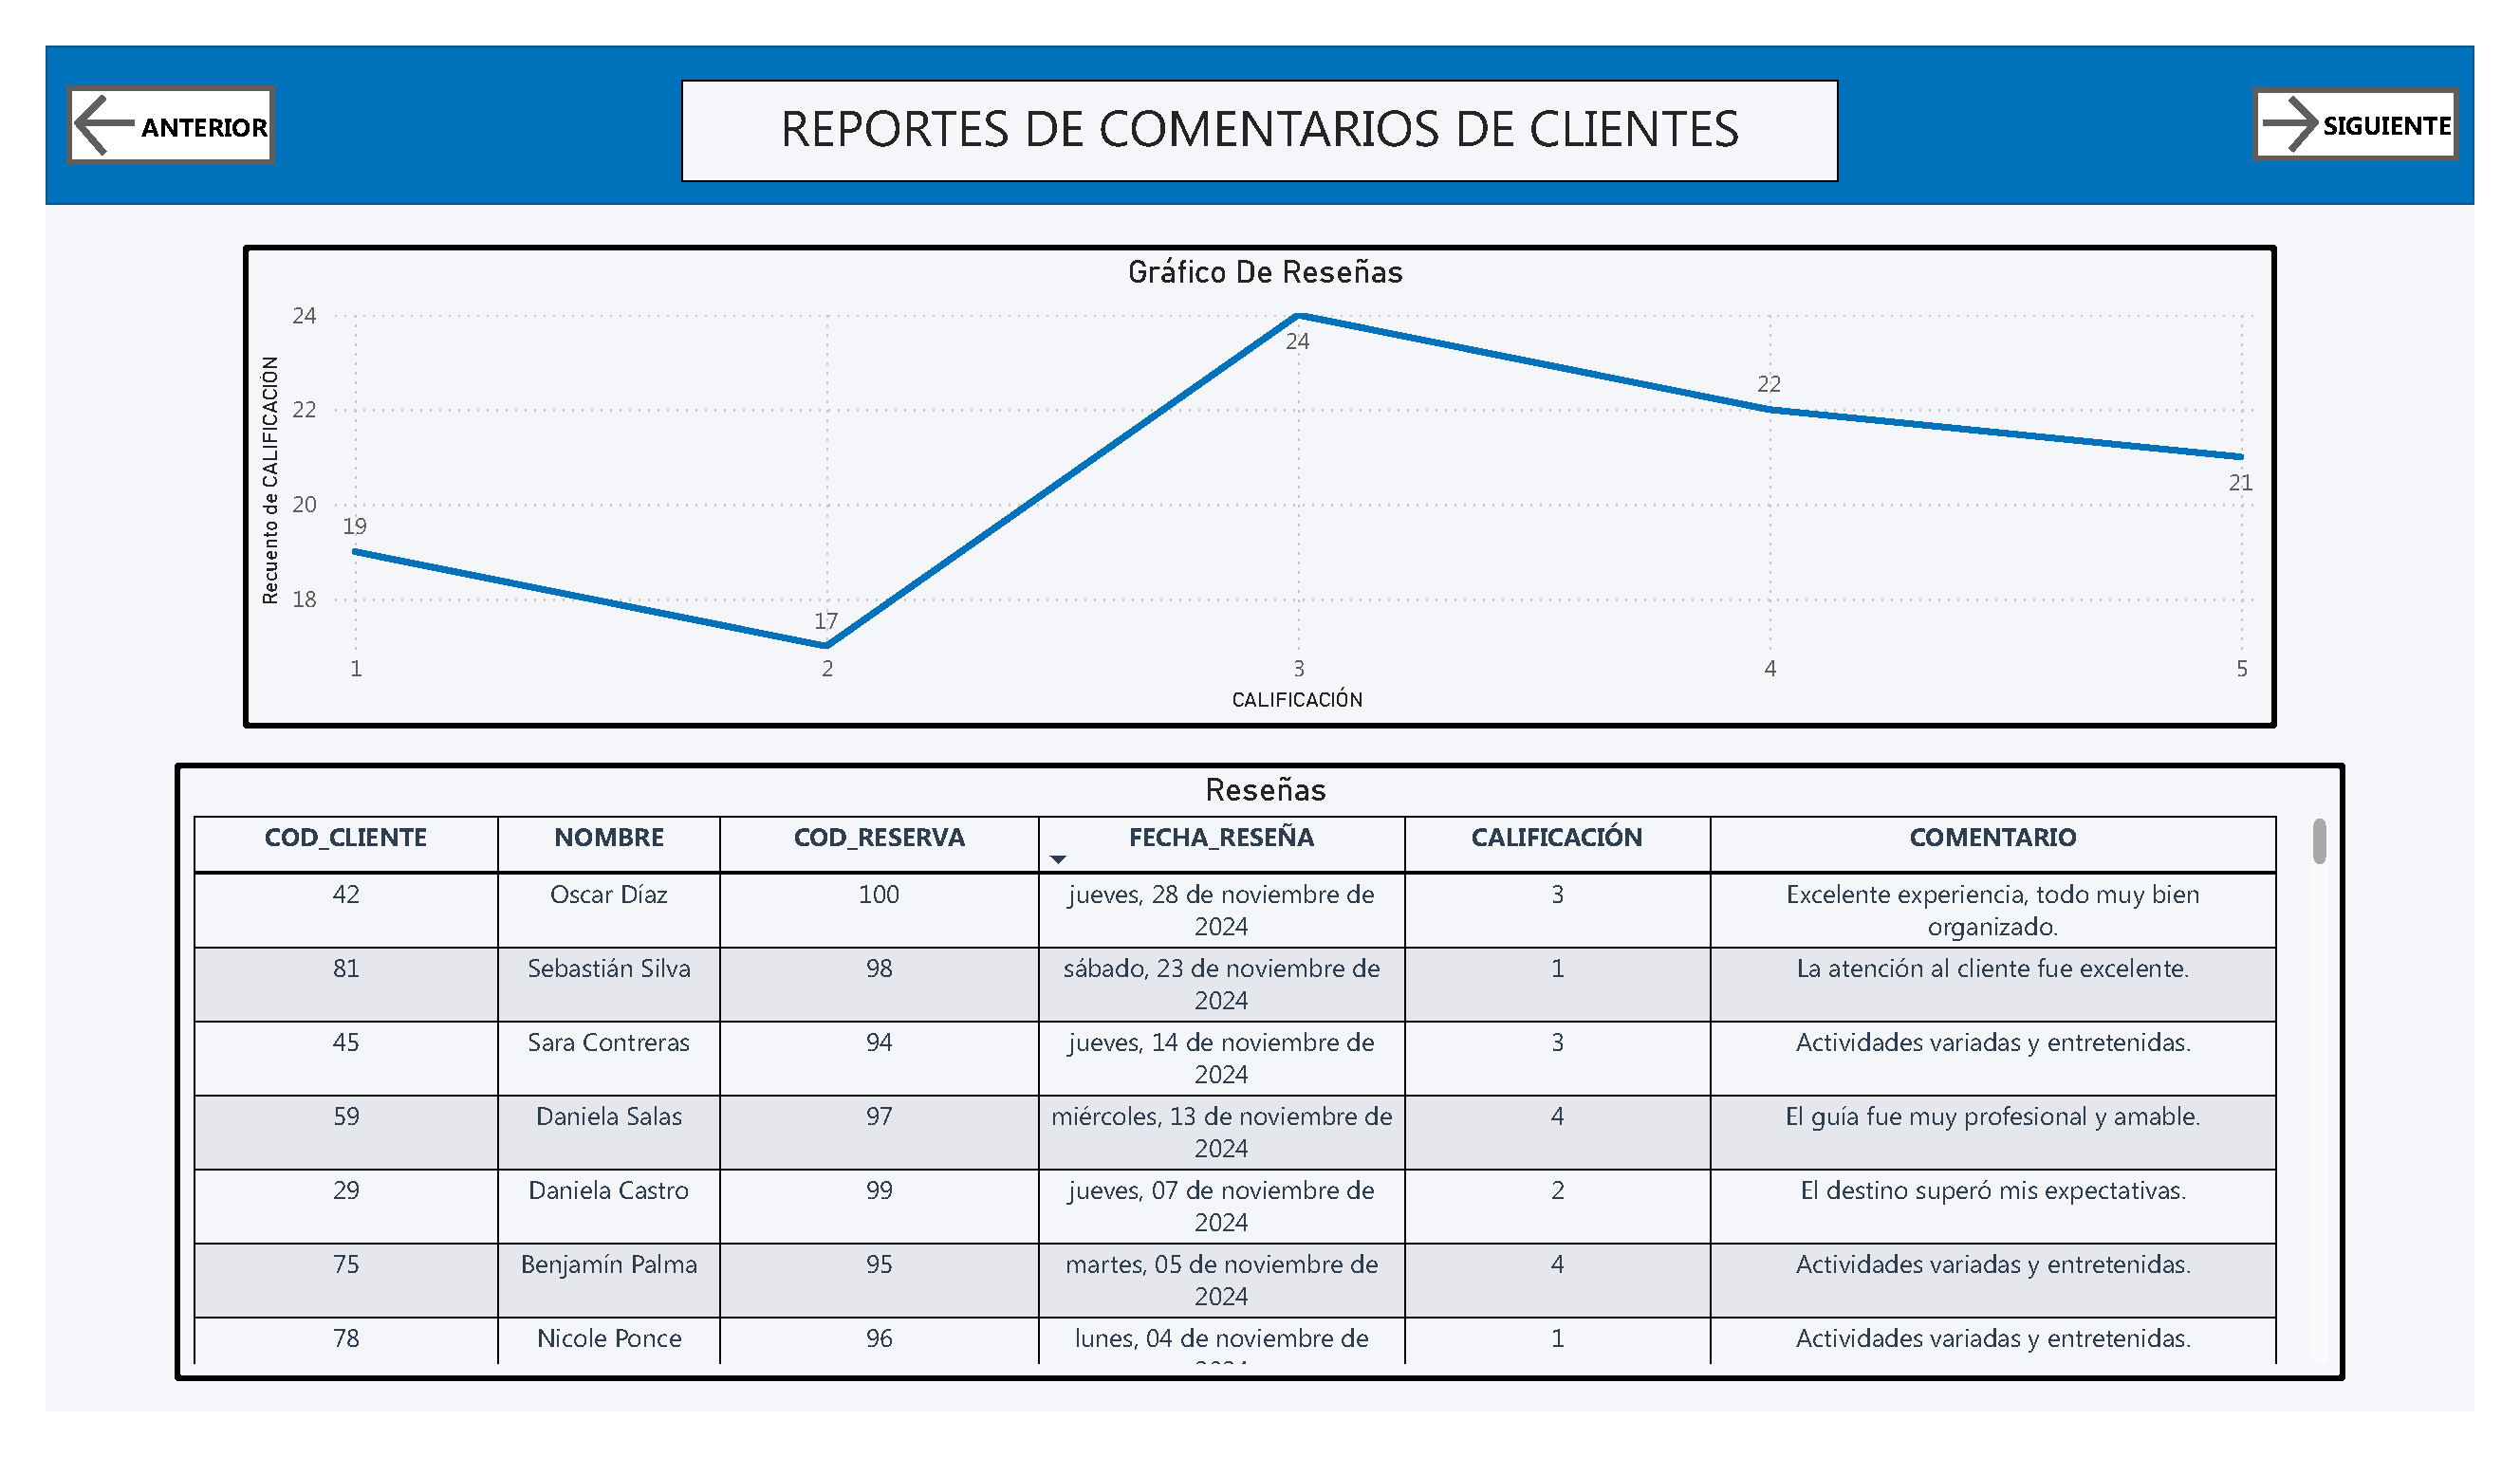

Layout of this report page (visuals, bound fields, positions):
{"tool":"powerbi","page":{"name":"RESEÑAS","canvas":[1280,720],"ordinal":9},"visuals":[{"type":"shape","box":[0,0,1280,83.8],"z":0},{"type":"textbox","box":[335,18.3,610,53.3],"z":1000},{"type":"actionButton","box":[1162.5,22,109.8,39.5],"z":3000},{"type":"actionButton","title":"Atras","box":[10.5,21.1,110.6,42.1],"z":4000},{"type":"tableEx","title":"Reseñas","fields":{"Values":["Sum(RESENA.COD_CLIENTE)","RESENA.NOMBRE","Sum(RESENA.COD_RESERVA)","RESENA.FECHA_RESEÑA","Sum(RESENA.CALIFICACIÓN)","RESENA.COMENTARIO"]},"box":[67.6,377.6,1144.1,326.6],"z":5000},{"type":"lineChart","title":"Gráfico De Reseñas","fields":{"Y":["CountNonNull(RESENA.CALIFICACIÓN)"],"Category":["RESENA.CALIFICACIÓN"]},"box":[104.5,105.4,1071.2,254.6],"z":6000}]}

Visuals, with their boxes in screenshot pixels (x1, y1, x2, y2), scaled from the page's 1280x720 canvas onto the 2520x1457 screenshot:
shape: region(0, 0, 2519, 170)
textbox: region(659, 37, 1861, 145)
actionButton: region(2288, 45, 2505, 124)
"Atras" actionButton: region(21, 43, 238, 128)
"Reseñas" tableEx: region(133, 765, 2385, 1425)
"Gráfico De Reseñas" lineChart: region(206, 213, 2315, 728)
